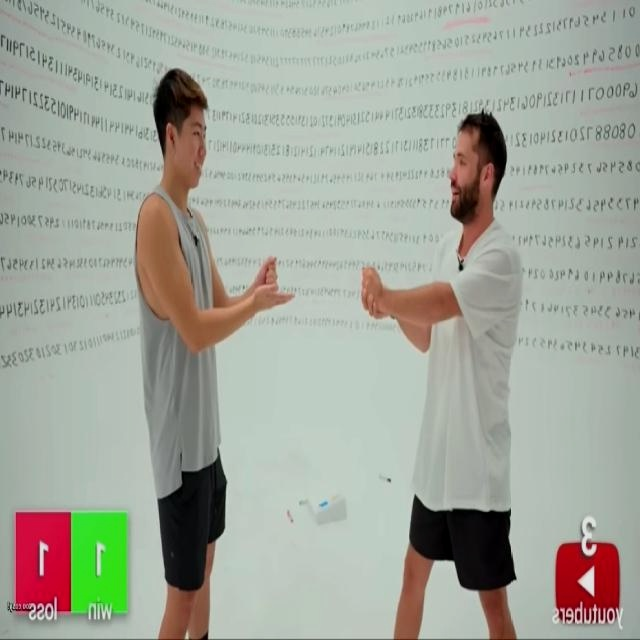Rock: (361, 264, 385, 311), (259, 255, 278, 288)
